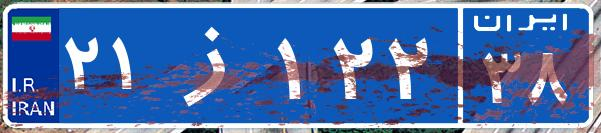1: (273, 28, 330, 110), (110, 28, 158, 105)
2: (385, 28, 445, 110), (330, 28, 385, 110), (57, 26, 110, 107)
3: (475, 38, 525, 113)
8: (525, 38, 570, 115)
ز: (158, 15, 273, 115)
